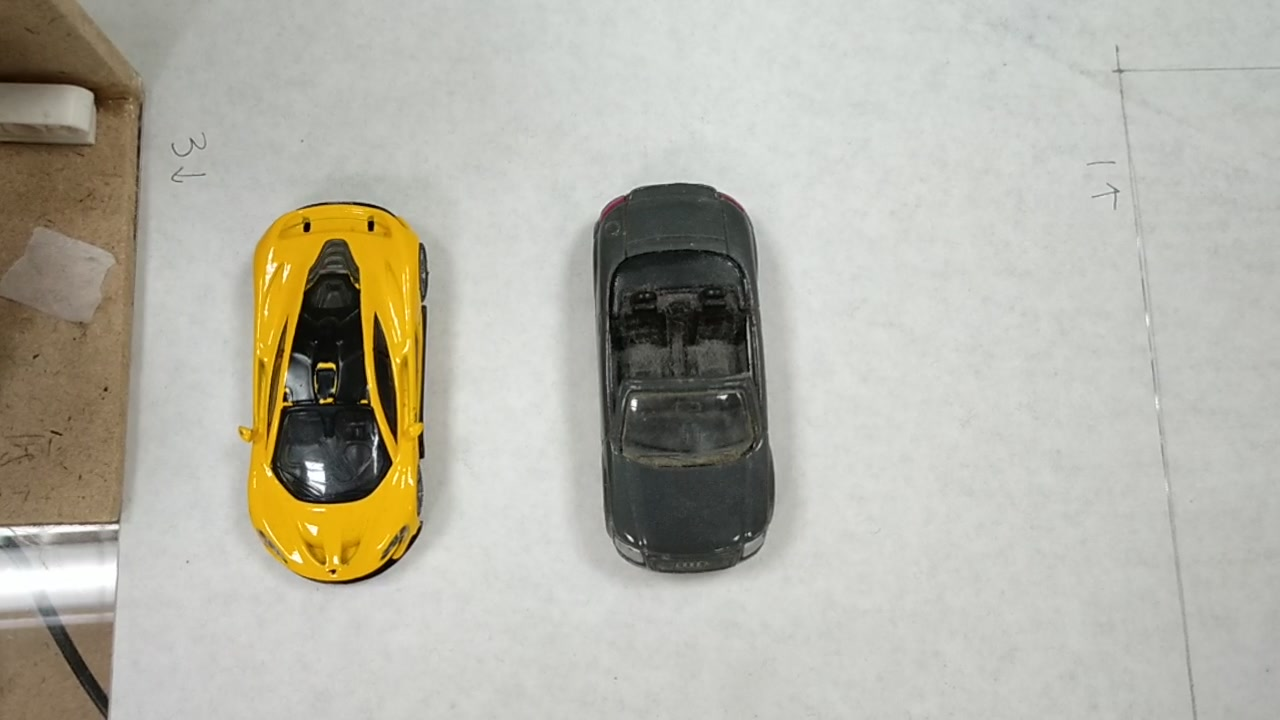car: (243, 208, 434, 541), (603, 190, 769, 572)
